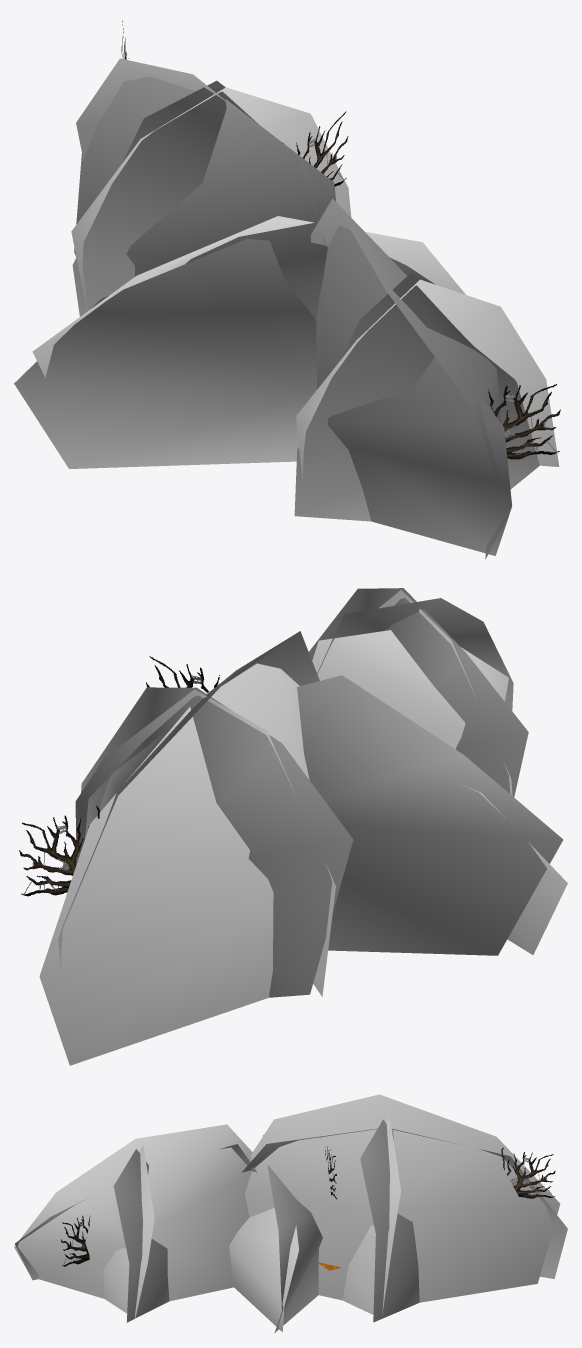
Rendered from duskwoodspookybush01.obj.
The picture shows the model from 3 angles, top to bottom: view 1: azimuth 30°, elevation 25°; view 2: azimuth 150°, elevation 25°; view 3: azimuth 270°, elevation 25°; orthographic projection. The views are drawn at different scales.
Visible parts, largest first — view 1: DUSKWOODSPOOKYBUSH010, DUSKWOODSPOOKYBUSH011; view 2: DUSKWOODSPOOKYBUSH010, DUSKWOODSPOOKYBUSH011; view 3: DUSKWOODSPOOKYBUSH010, DUSKWOODSPOOKYBUSH011.
Boxes of the visible parts, x1,y1,x2,y2 form: DUSKWOODSPOOKYBUSH010: (14,58,559,559); DUSKWOODSPOOKYBUSH011: (121,20,560,459); DUSKWOODSPOOKYBUSH010: (39,588,567,1065); DUSKWOODSPOOKYBUSH011: (19,656,219,896); DUSKWOODSPOOKYBUSH010: (14,1094,567,1332); DUSKWOODSPOOKYBUSH011: (61,1137,555,1266).
Bounding box in the file's own units: 7.77 × 4.54 × 12.8.
